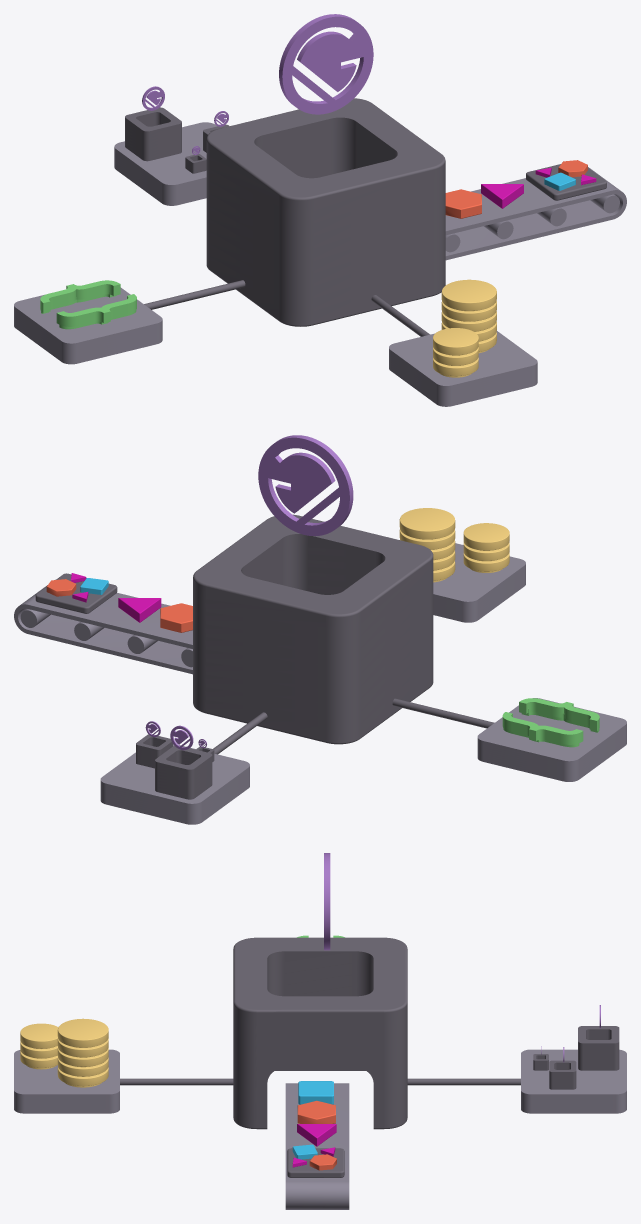
File: gatsby.gltf
The picture shows the model from 3 angles, top to bottom: view 1: azimuth 30°, elevation 25°; view 2: azimuth 150°, elevation 25°; view 3: azimuth 270°, elevation 25°; orthographic projection. The views are drawn at different scales.
Visible parts, largest first — view 1: Block, base (×3), Belt, Logo, Database, Block Above, Braces, Tubes, Rectangle-Base.1, Hexagon.1, Triangle.1, Logos; view 2: Block, base (×3), Belt, Logo, Database, Block Above, Braces, Tubes, Rectangle-Base.1, Hexagon.1, Triangle.1, Logos; view 3: Block, base (×2), Database, Belt, Block Above, Tubes, Rectangle-Base.1, Hexagon.1, Rectangle.1, Logo, Triangle.1.
Boxes of the visible parts, x1,y1,x2,y2 form: Block: (206, 98, 445, 326); base (×3): (14, 122, 537, 406); Belt: (445, 167, 626, 260); Logo: (279, 14, 373, 114); Database: (433, 279, 496, 377); Block Above: (125, 107, 229, 173); Braces: (40, 280, 136, 329); Tubes: (144, 280, 429, 336); Rectangle-Base.1: (526, 164, 606, 200); Hexagon.1: (445, 189, 481, 218); Triangle.1: (481, 184, 523, 208); Logos: (142, 86, 228, 155); Block: (193, 514, 433, 744); base (×3): (100, 543, 626, 824); Belt: (14, 585, 192, 674); Logo: (258, 435, 353, 536); Database: (399, 508, 509, 582); Block Above: (136, 734, 214, 799); Braces: (502, 698, 599, 747); Tubes: (213, 698, 494, 754); Rectangle-Base.1: (35, 573, 117, 613); Hexagon.1: (160, 603, 192, 632); Triangle.1: (118, 598, 161, 622); Logos: (145, 721, 206, 750); Block: (233, 937, 407, 1129); base (×2): (14, 1049, 626, 1113); Database: (20, 1018, 108, 1087); Belt: (285, 1083, 349, 1209); Block Above: (533, 1026, 619, 1089); Tubes: (120, 1078, 520, 1085); Rectangle-Base.1: (287, 1148, 344, 1177); Hexagon.1: (297, 1100, 335, 1123); Rectangle.1: (298, 1081, 333, 1104); Logo: (324, 853, 330, 950); Triangle.1: (297, 1124, 336, 1146).
Size of the model in its own units: 1430 by 617 by 1444.
